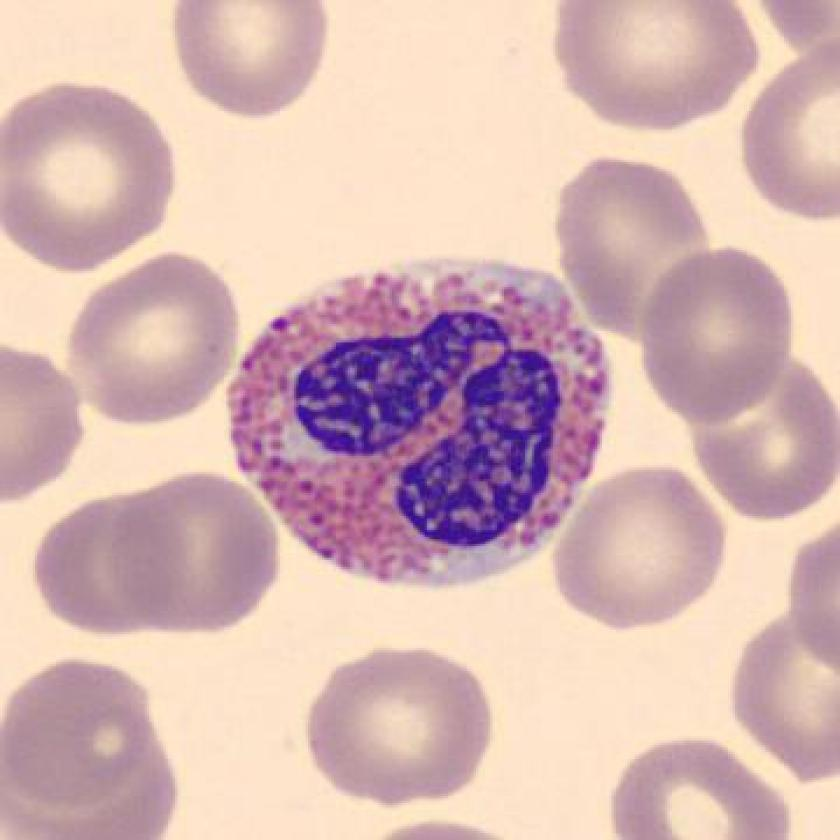eosinophil: (211, 240, 626, 601)
